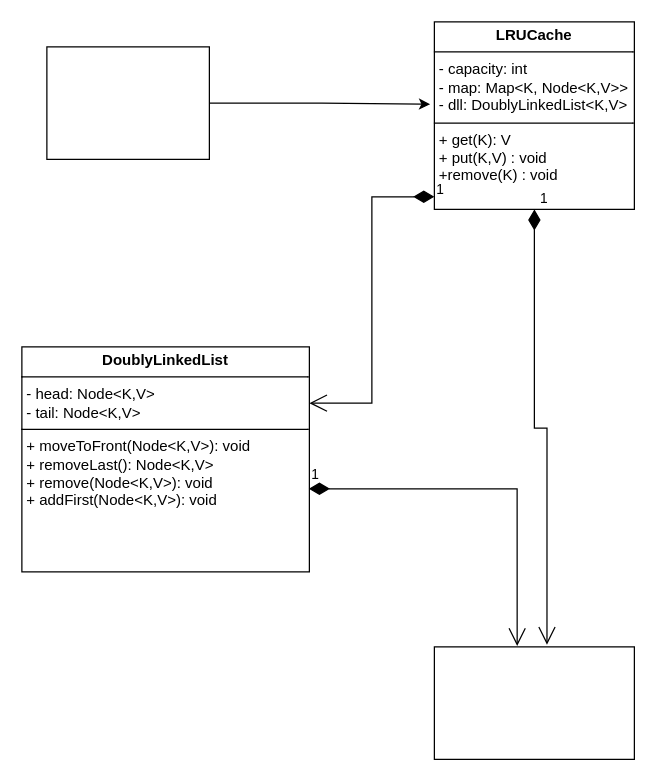
The diagram is 656 pixels wide and 781 high, and some of its shapes have lost their labels. The centre of each missing label's shape, as x and y in pixels:
"LRUCachedemo + main(String): void" belongs at pixel 127 102.
"Node - key: K - value: V - next: Node<K,V> -previous: Node<K,V>" belongs at pixel 533 702.
